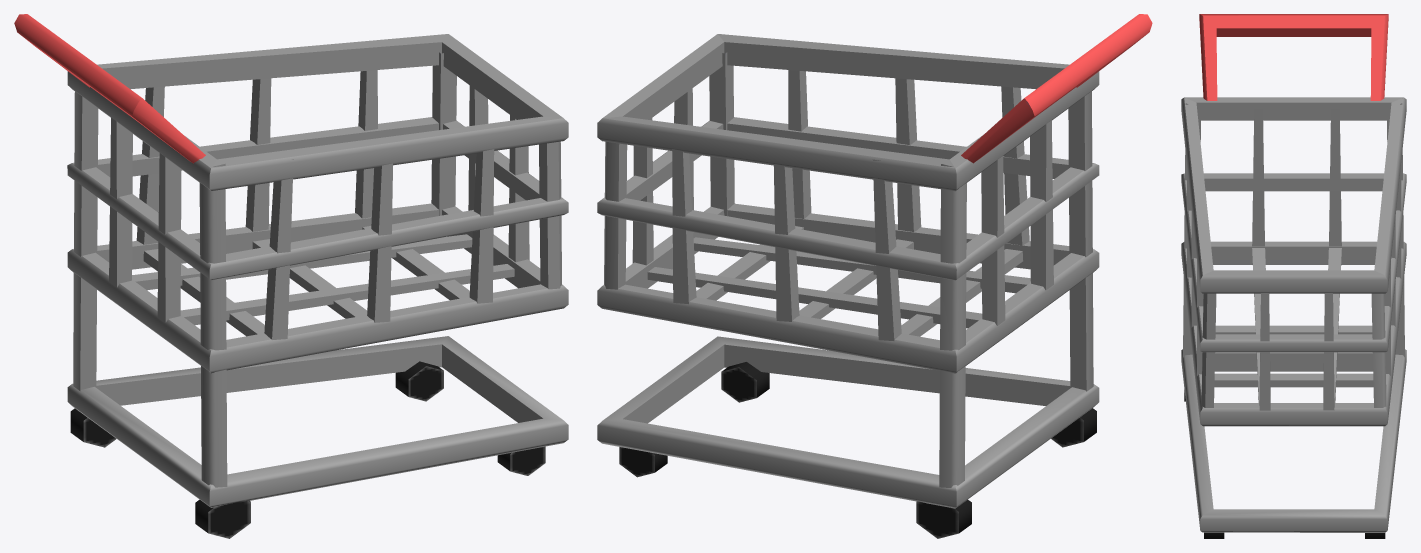
The model's file is Trolley.fbx.
3 views of the same model, side by side, from view 1: azimuth 30°, elevation 25°; view 2: azimuth 150°, elevation 25°; view 3: azimuth 270°, elevation 25° (orthographic). The views are drawn at different scales.
Visible parts, largest first — view 1: Trolley; view 2: Trolley; view 3: Trolley.
Part boxes in pixels (x1,y1,x2,y2): Trolley: (14,14,568,538); Trolley: (597,14,1152,538); Trolley: (1181,14,1406,538).
Bounding box in the file's own units: 105 × 108 × 59.19.
